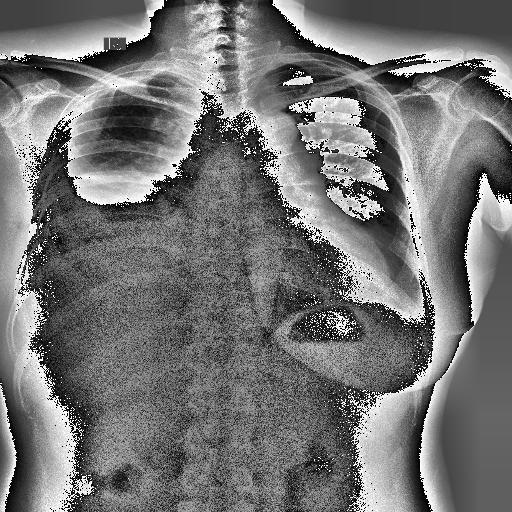0- Aortic enlargement: (241, 110, 299, 164)
10- Pleural effusion: (24, 70, 216, 320), (32, 144, 200, 314), (28, 104, 176, 284)
11- Pleural thickening: (56, 61, 186, 142)
7- Lung Opacity: (66, 168, 172, 204), (151, 78, 208, 142), (65, 180, 157, 216)
